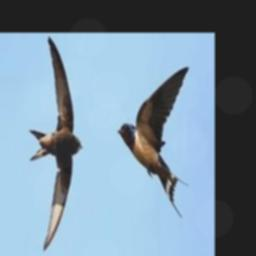Swallow: (29, 37, 83, 251), (117, 66, 189, 216)
